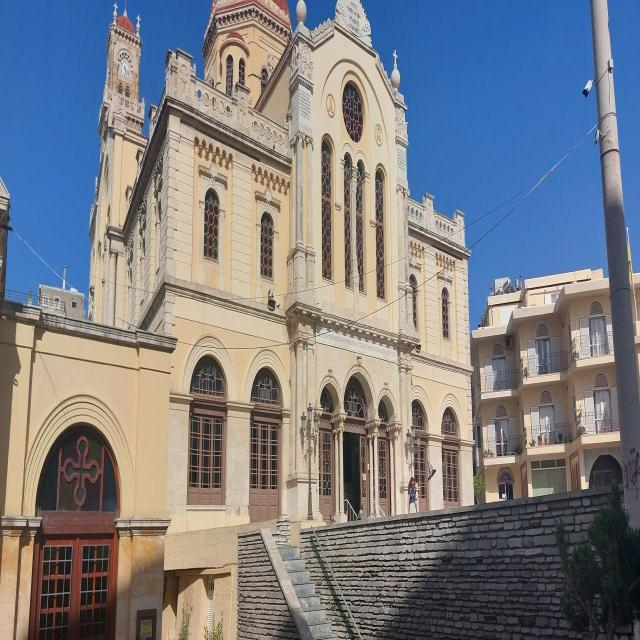Agios Minas: (1, 1, 477, 640)
